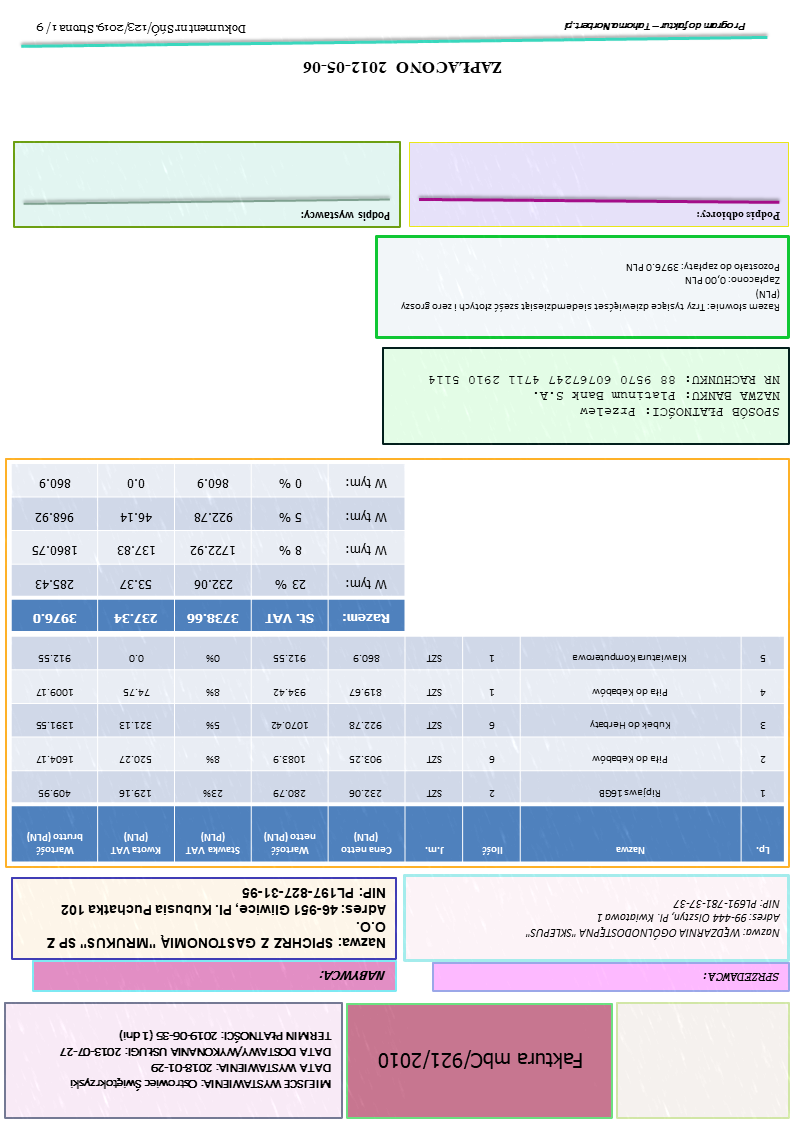Table: (9, 633, 787, 864), (8, 463, 406, 632)
TextBox: (42, 881, 392, 955), (397, 258, 784, 316), (426, 368, 783, 424), (56, 1025, 337, 1094), (520, 894, 784, 946), (375, 1044, 594, 1080), (33, 16, 251, 39), (297, 55, 506, 78), (558, 18, 750, 39), (694, 205, 784, 227), (296, 205, 395, 225), (318, 964, 390, 989), (703, 968, 786, 988)
